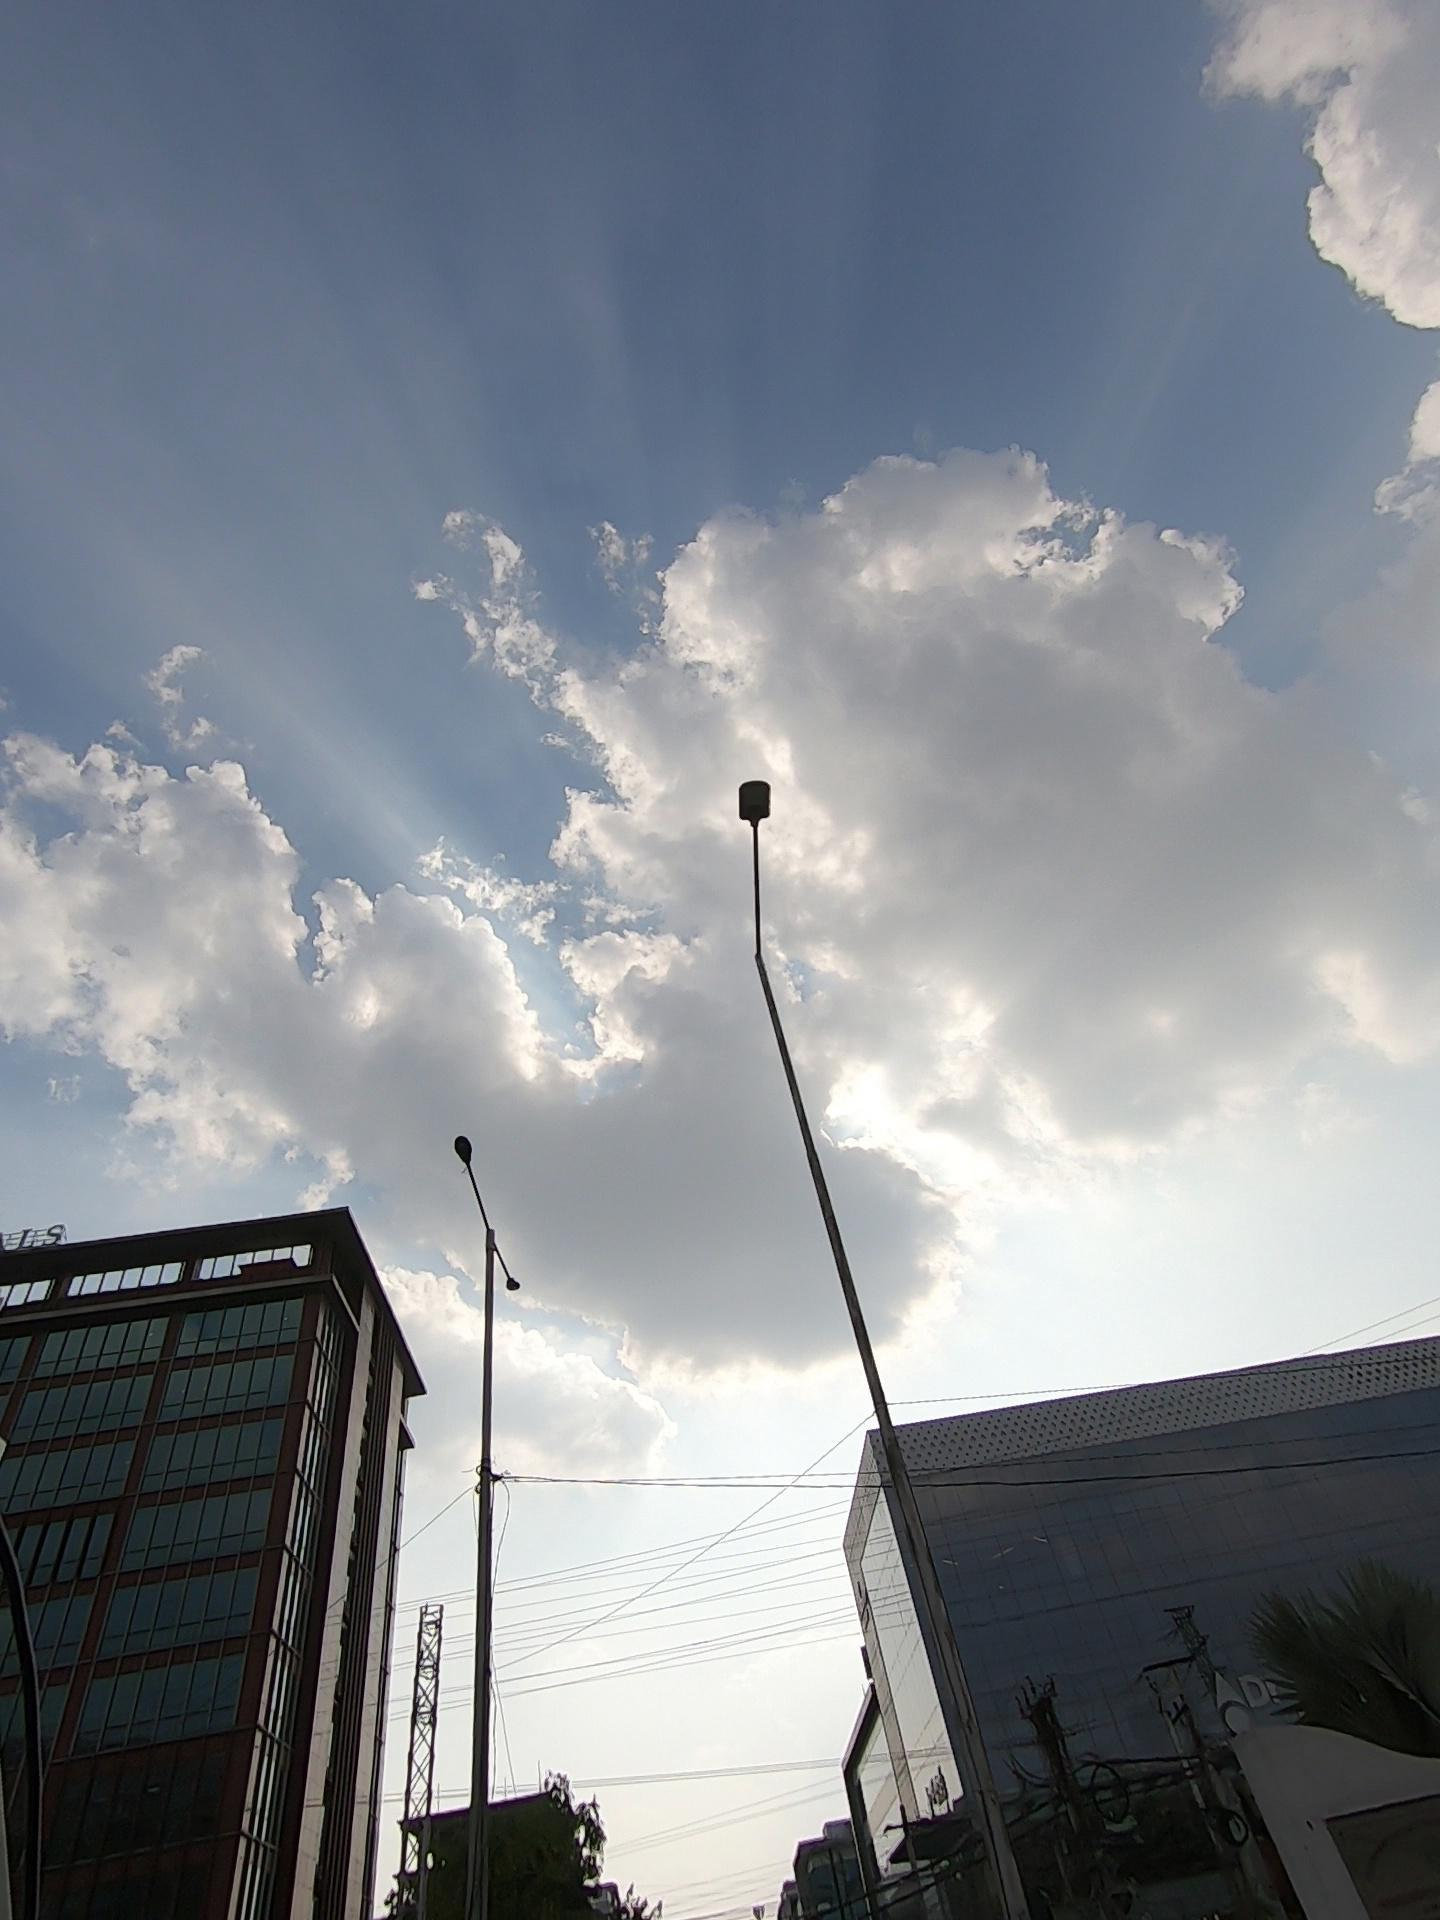off: (709, 701, 839, 1096), (451, 1131, 591, 1344)
